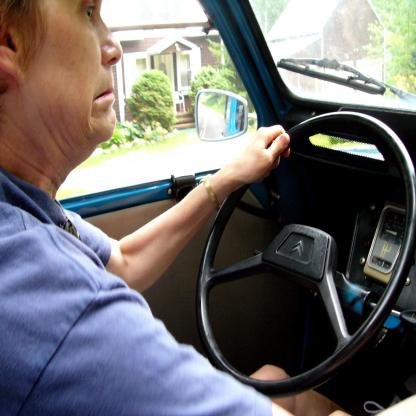Car: (56, 0, 416, 416)
